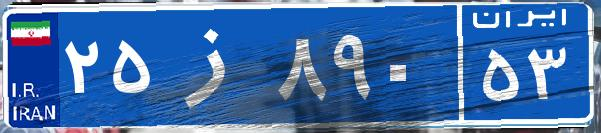0: (385, 28, 445, 110)
2: (57, 26, 110, 107)
3: (525, 38, 570, 115)
5: (475, 38, 525, 113), (110, 28, 158, 105)
8: (273, 28, 330, 110)
9: (330, 28, 385, 110)
ز: (158, 15, 273, 115)
